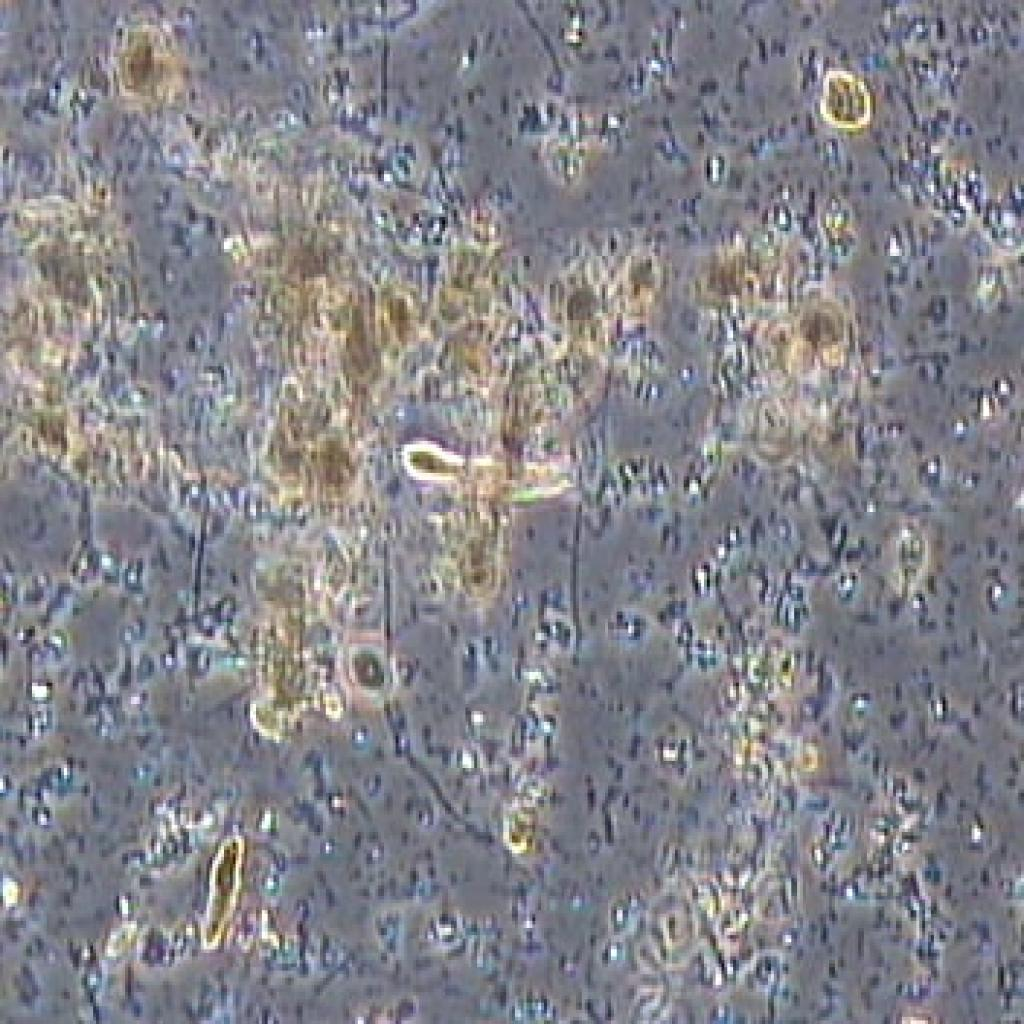Chaetonotus: (380, 411, 586, 510)
